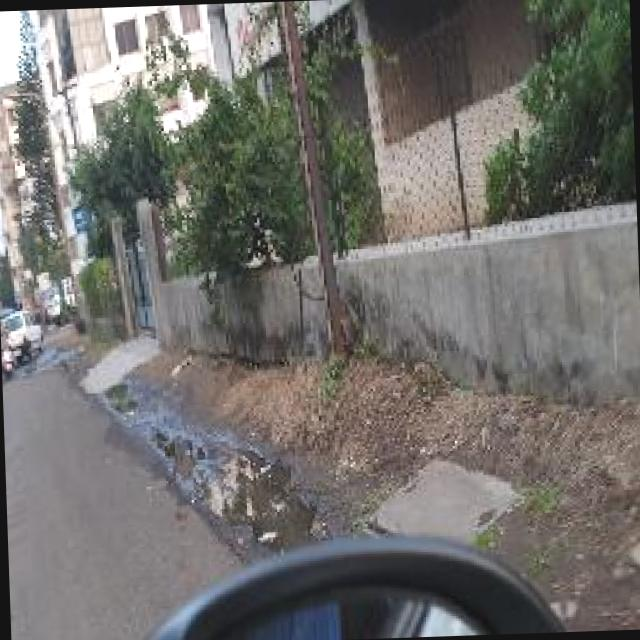waterlogging: (170, 423, 286, 542)
